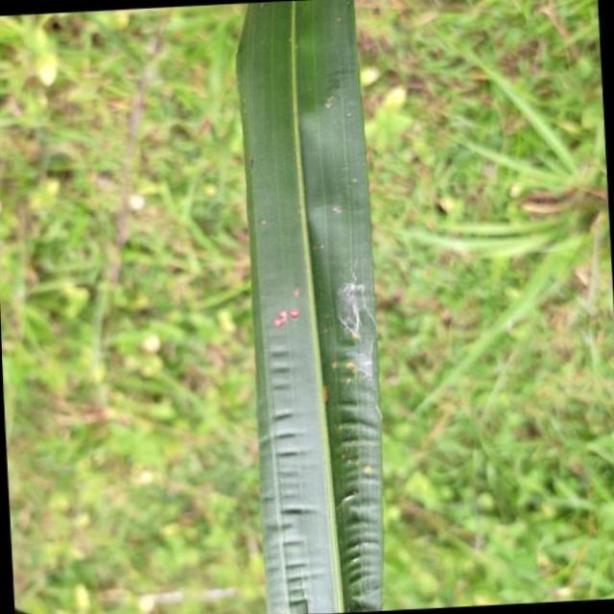Boron: (236, 1, 383, 614)
